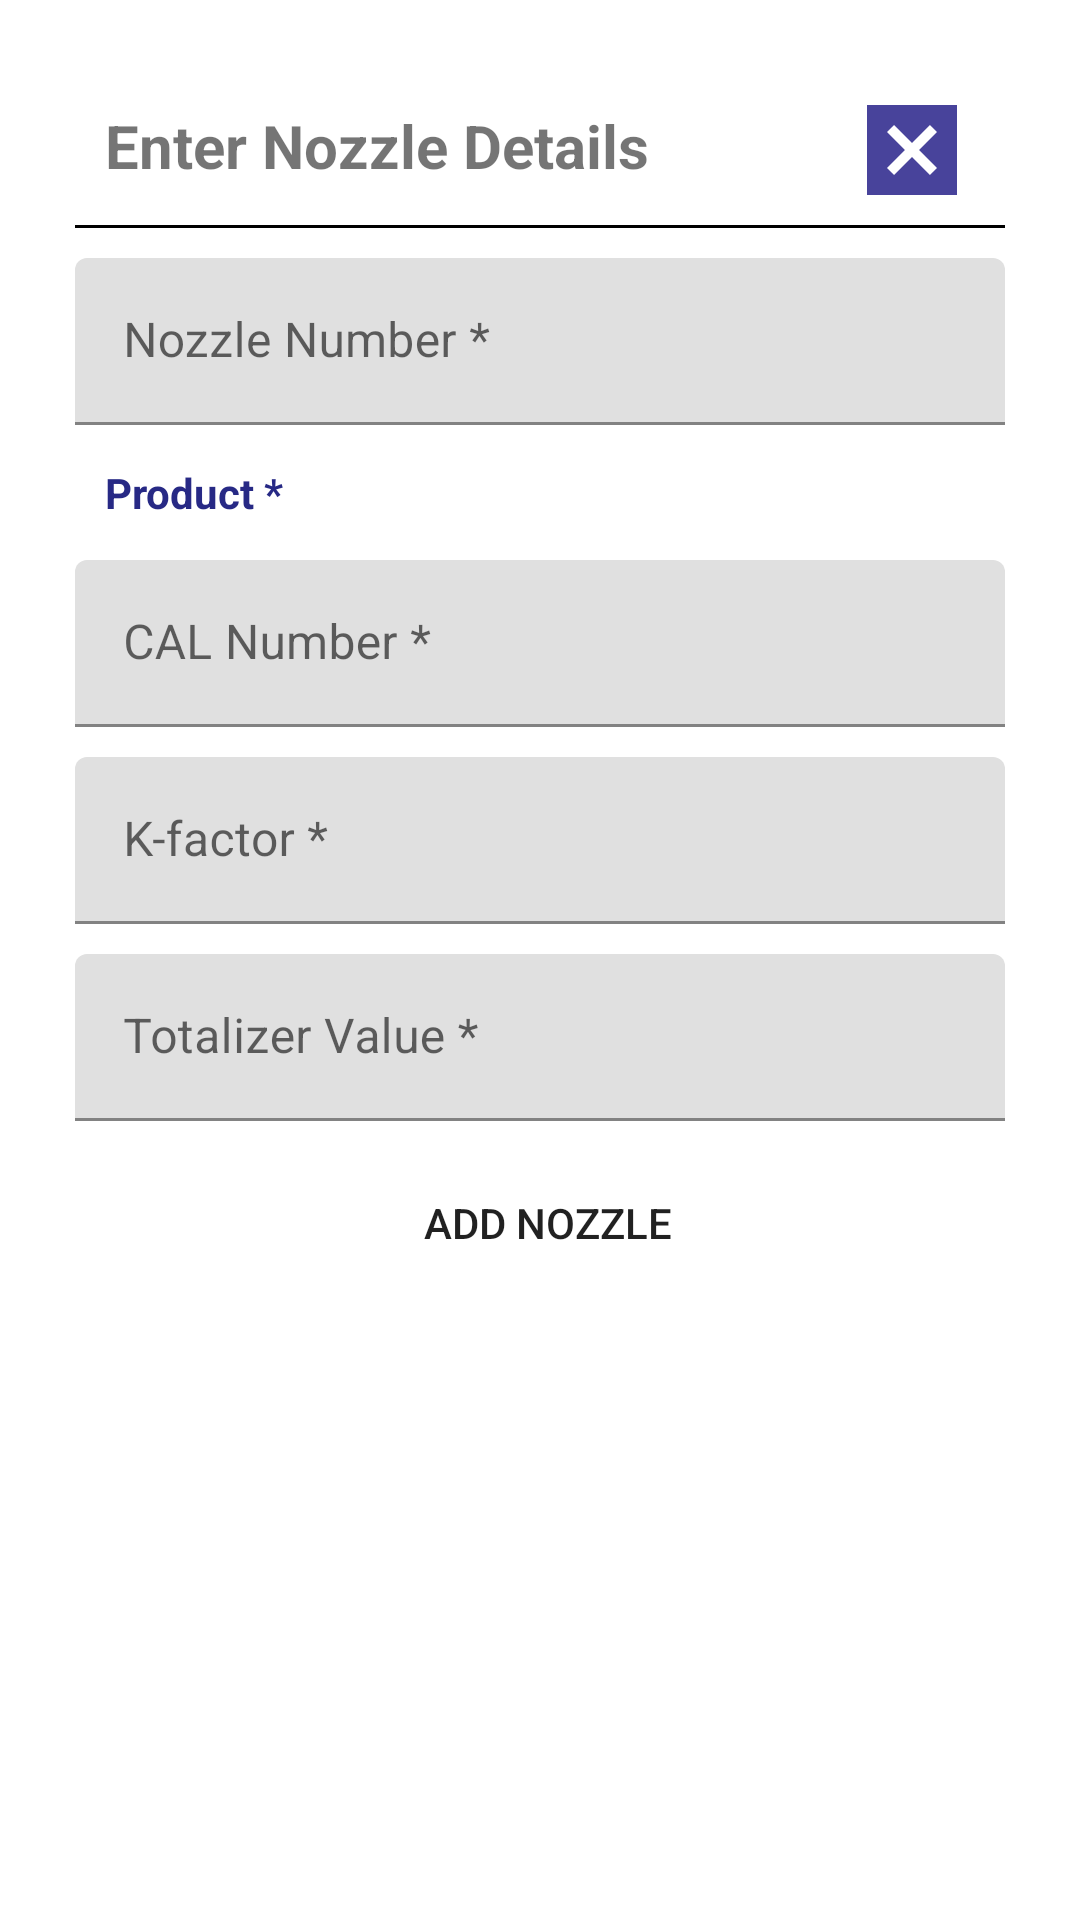

Where icons sit on this 1080 x 1920 app screen, as (left=x1, top=y1, right=x2, bottom=y2):
end dialog: (left=867, top=105, right=957, bottom=195)
